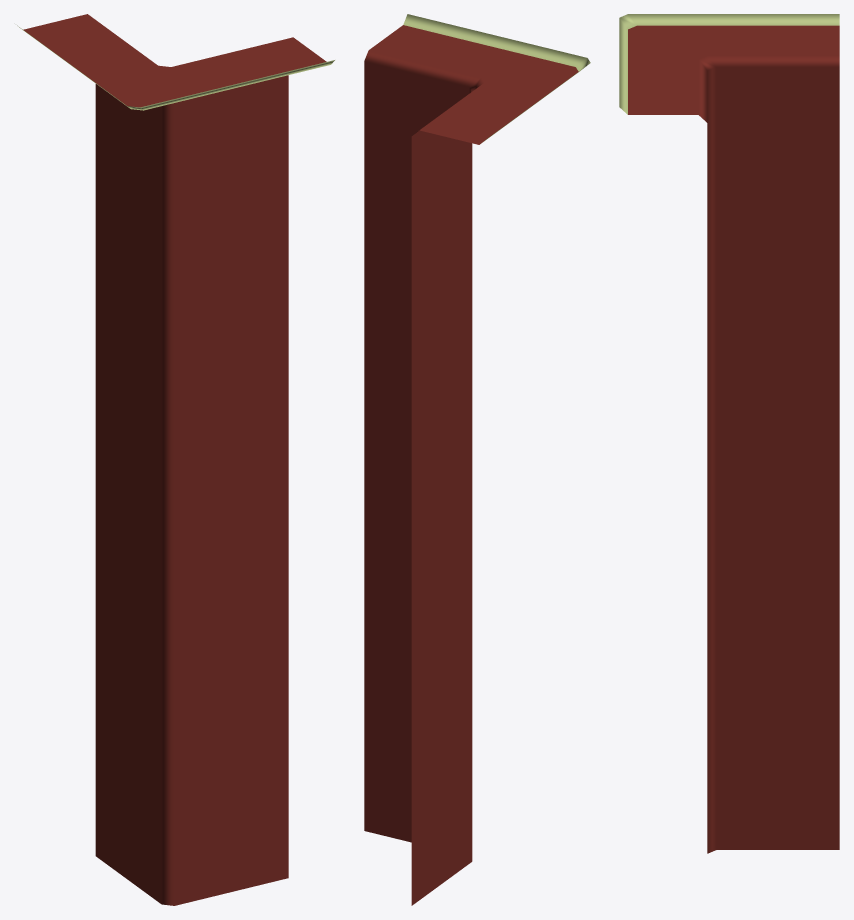
Rendered from SocketIn_CornerOut_0.25x1.0.obj.
3 views of the same model, side by side, from view 1: azimuth 30°, elevation 25°; view 2: azimuth 150°, elevation 25°; view 3: azimuth 270°, elevation 25° (orthographic). The views are drawn at different scales.
Parts seen in each view (by area): view 1: SocketIn_CornerOut_0.25x1.0; view 2: SocketIn_CornerOut_0.25x1.0; view 3: SocketIn_CornerOut_0.25x1.0.
Part boxes in pixels (box(x1,y1,x2,y2)): SocketIn_CornerOut_0.25x1.0: box(17, 14, 334, 905); SocketIn_CornerOut_0.25x1.0: box(364, 14, 590, 905); SocketIn_CornerOut_0.25x1.0: box(619, 14, 839, 853).
Bounding box in the file's own units: 0.25 × 1 × 0.25.
